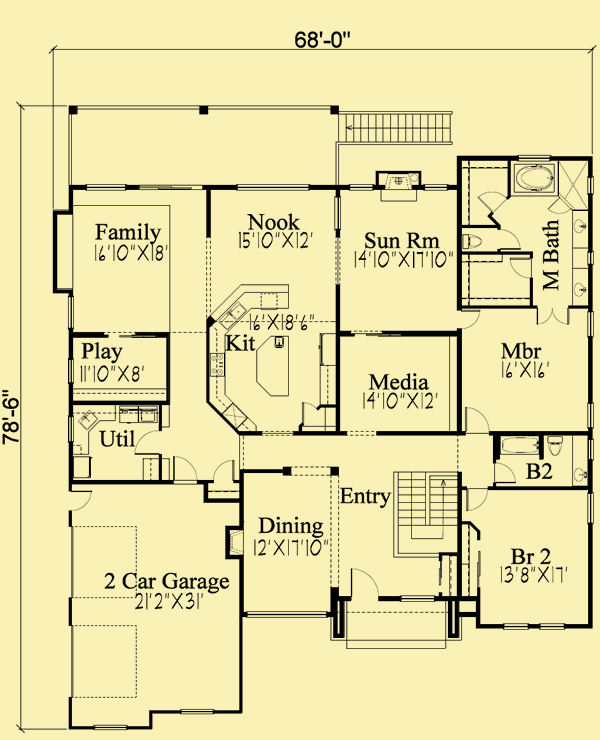door: (346, 564, 380, 603), (171, 454, 202, 486), (464, 405, 493, 435), (532, 304, 571, 326), (132, 427, 160, 457), (473, 190, 505, 213), (498, 228, 524, 255), (66, 488, 95, 511), (211, 459, 237, 484), (465, 486, 489, 513), (456, 309, 482, 333)
kitchen_bar: (252, 332, 292, 397)
large_sink: (461, 232, 484, 254)
small_sink: (572, 266, 591, 308), (569, 210, 587, 253)
stairs: (391, 470, 462, 557), (332, 108, 453, 144)
tub: (510, 161, 558, 197), (497, 434, 538, 454)
twin_sink: (218, 301, 247, 332)
window: (242, 609, 329, 620), (233, 182, 309, 193), (502, 622, 573, 632), (62, 292, 78, 330), (83, 181, 135, 192), (585, 309, 597, 339), (64, 413, 75, 444)
